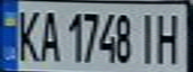1: (60, 8, 84, 63)
4: (97, 9, 118, 64)
7: (78, 8, 100, 63)
8: (112, 9, 136, 64)
A: (36, 7, 63, 62)
H: (151, 8, 190, 65)
I: (133, 9, 160, 64)
K: (12, 6, 42, 63)
